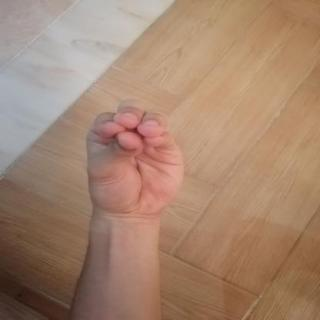HA: (64, 94, 199, 225)
